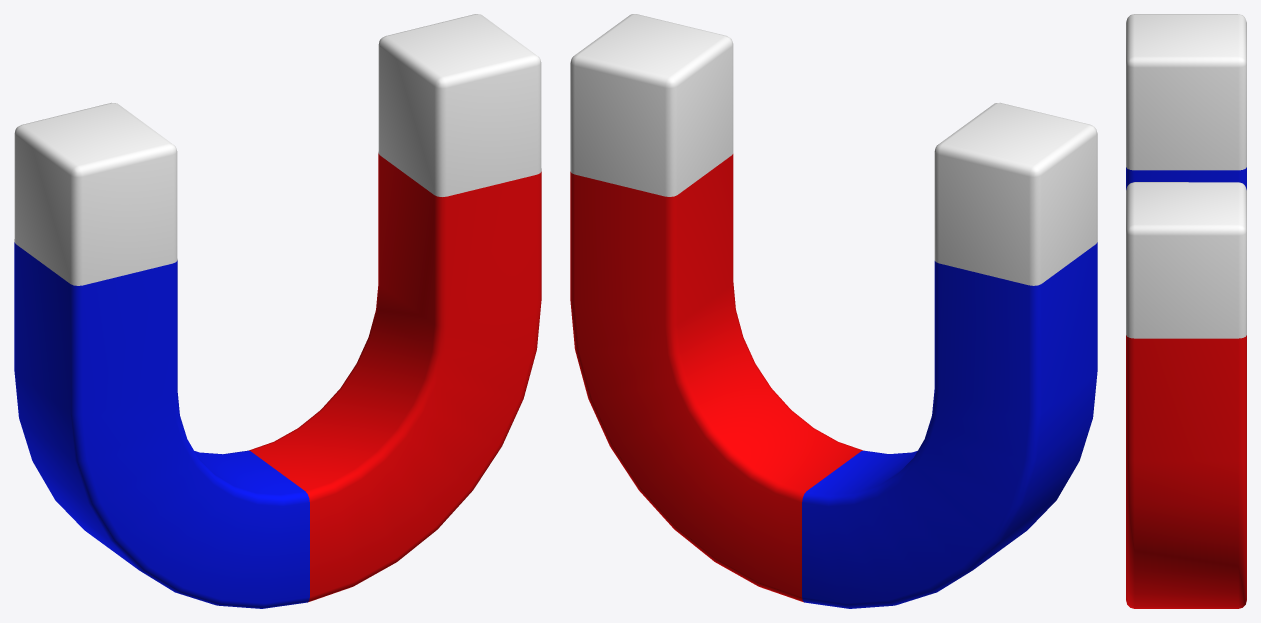
File: magnet.glb
3 views of the same model, side by side, from view 1: azimuth 30°, elevation 25°; view 2: azimuth 150°, elevation 25°; view 3: azimuth 270°, elevation 25° (orthographic). The views are drawn at different scales.
Parts seen in each view (by area): view 1: Object_2; view 2: Object_2; view 3: Object_2.
Boxes of the visible parts, x1=… form: Object_2: x1=14, y1=14, x2=541, y2=608; Object_2: x1=570, y1=14, x2=1097, y2=608; Object_2: x1=1126, y1=14, x2=1246, y2=608.
Size of the model in its own units: 2.12 by 2.12 by 0.499.
Materials: 1 (1 with a texture image).
